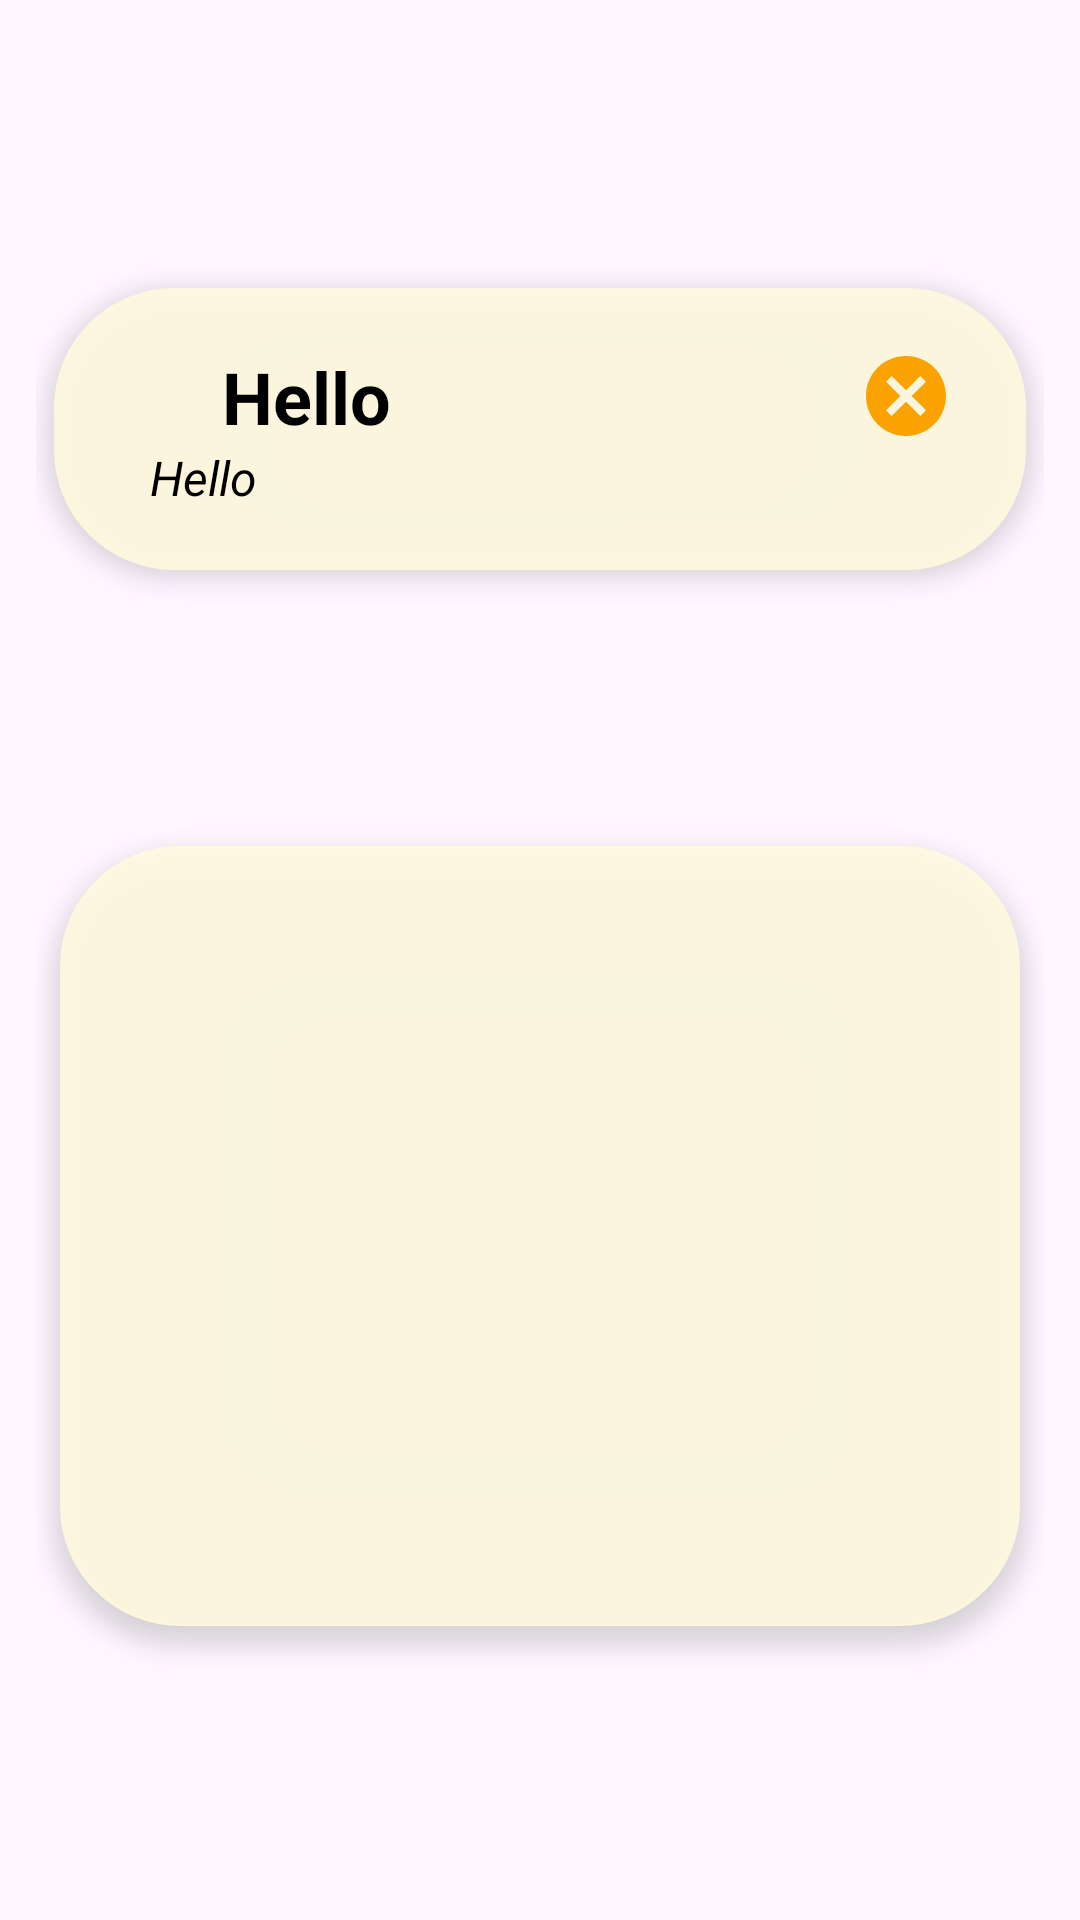

Named icons in this screenshot (1080×1920) and their centers, (x,y):
cancel: (906,396)
